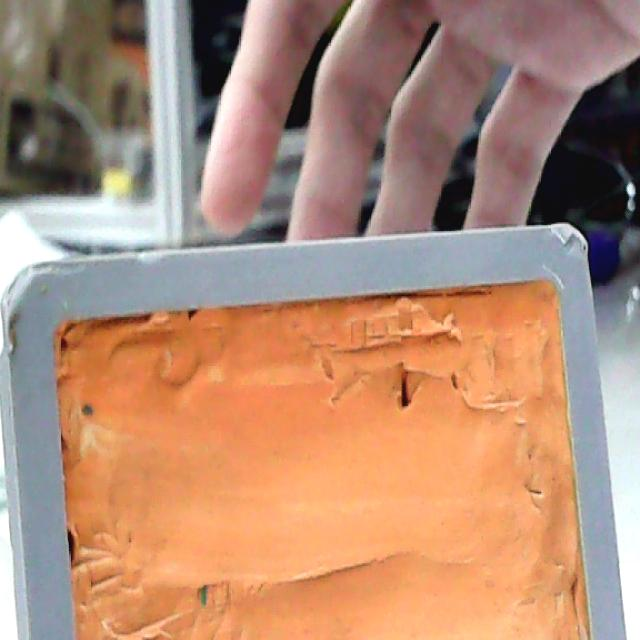block: (0, 225, 633, 640)
